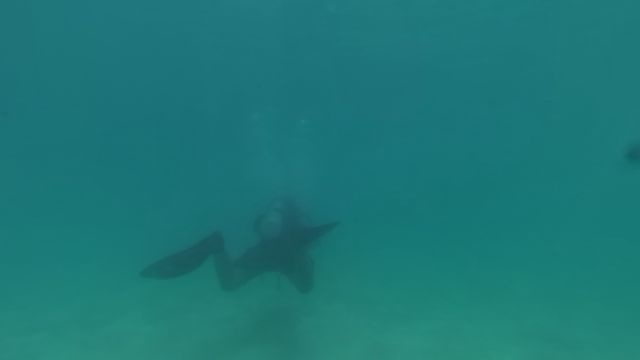Diver: (130, 179, 346, 301)
